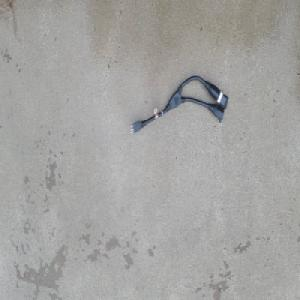Wire: (129, 74, 229, 135)
